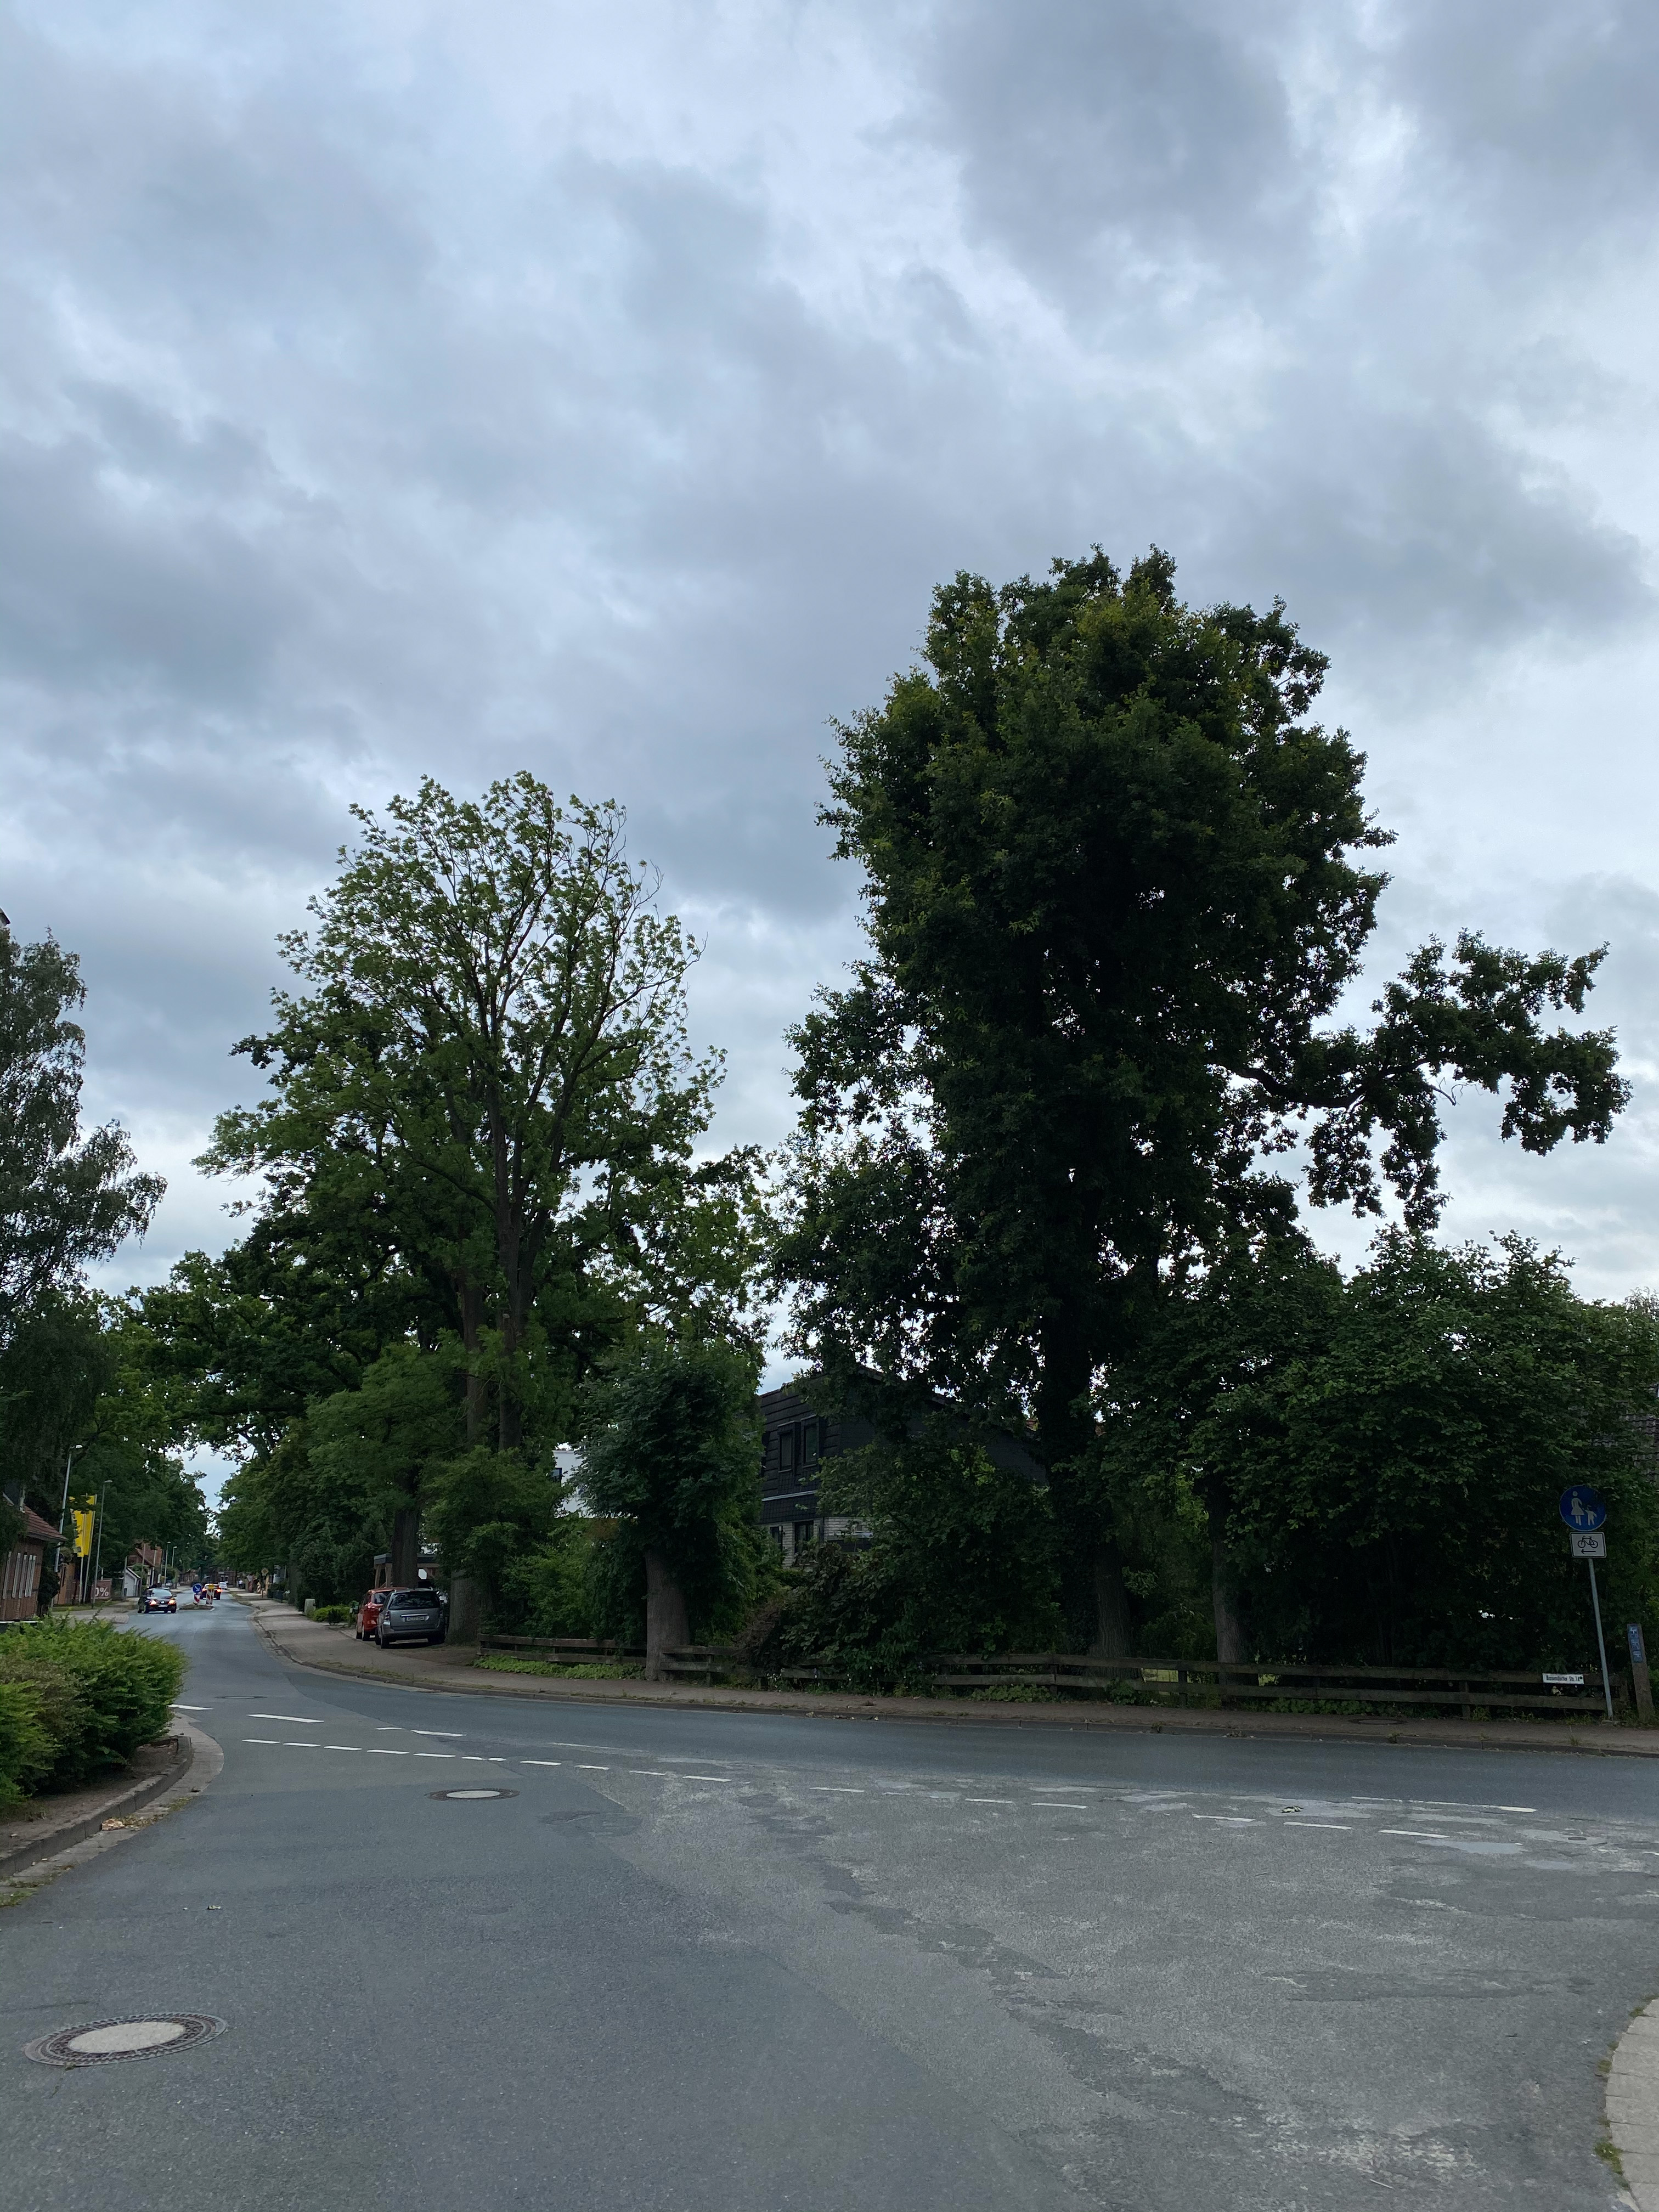tree: (781, 542, 1636, 1653), (190, 770, 730, 1637), (124, 982, 789, 1587), (1049, 1228, 1349, 1705), (0, 925, 167, 1350), (573, 1320, 765, 1672)
